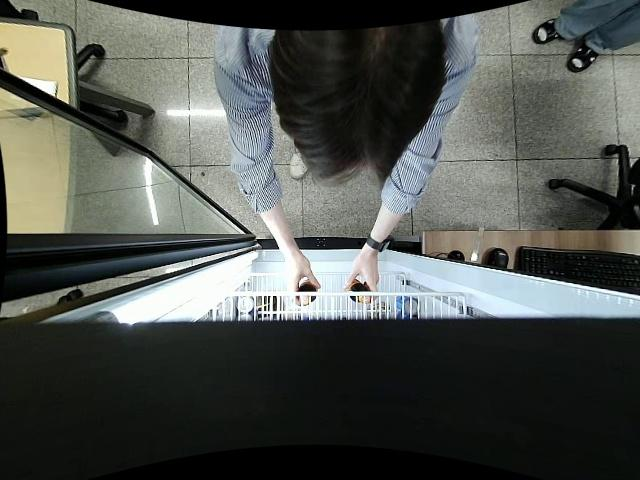00_hand: (285, 257, 320, 307), (343, 255, 380, 299)
17_vita500: (345, 278, 370, 307), (295, 281, 318, 306)
